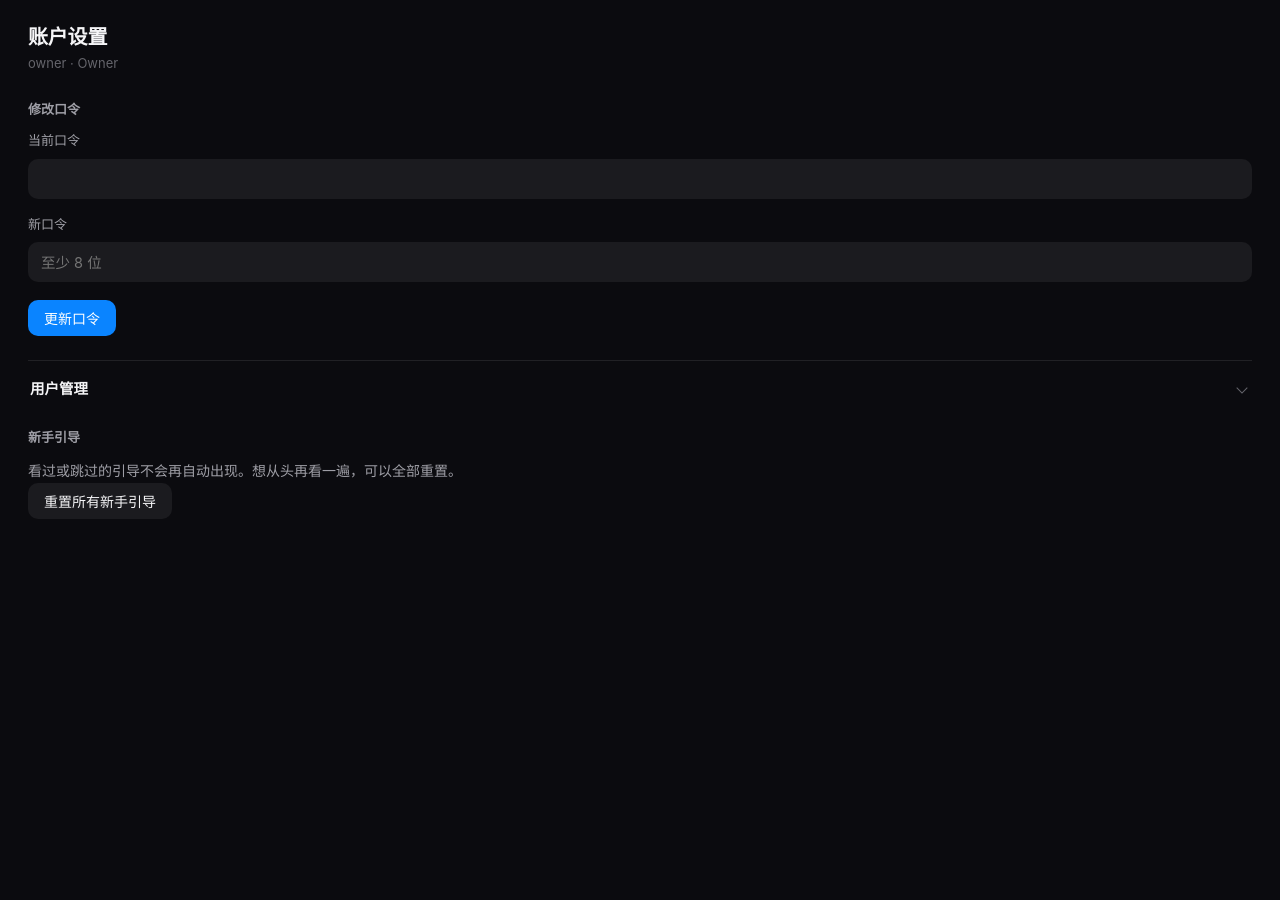
Test: 账户设置的反馈 › 重置他人口令成功给出反馈
Click the button "用户管理".
click(59, 388)  # box [28,360,1252,402]
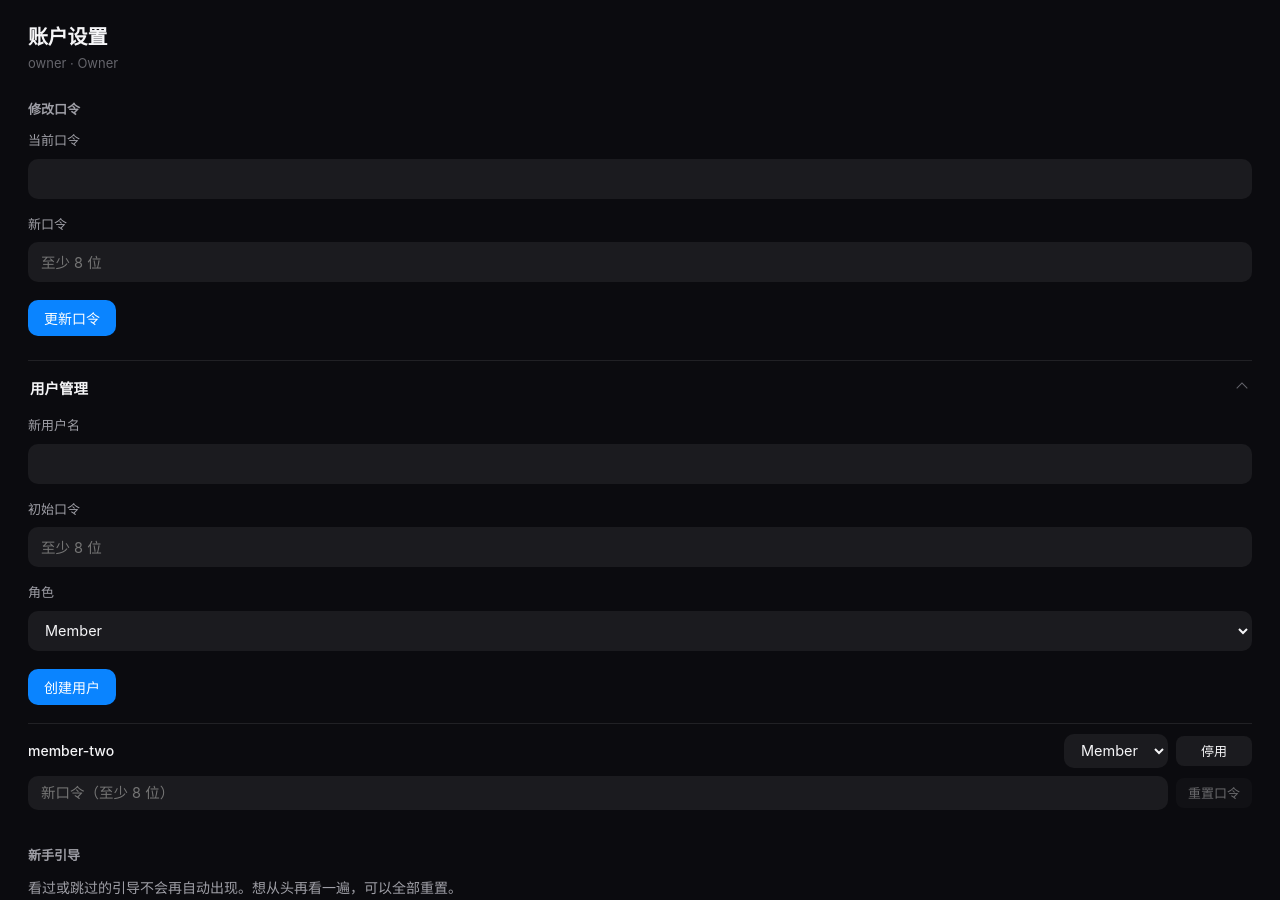
Type "brand-new-pass" into the password field named "重置 member-two 口令".
click(598, 792); type("brand-new-pass")  # box [28,776,1168,810]
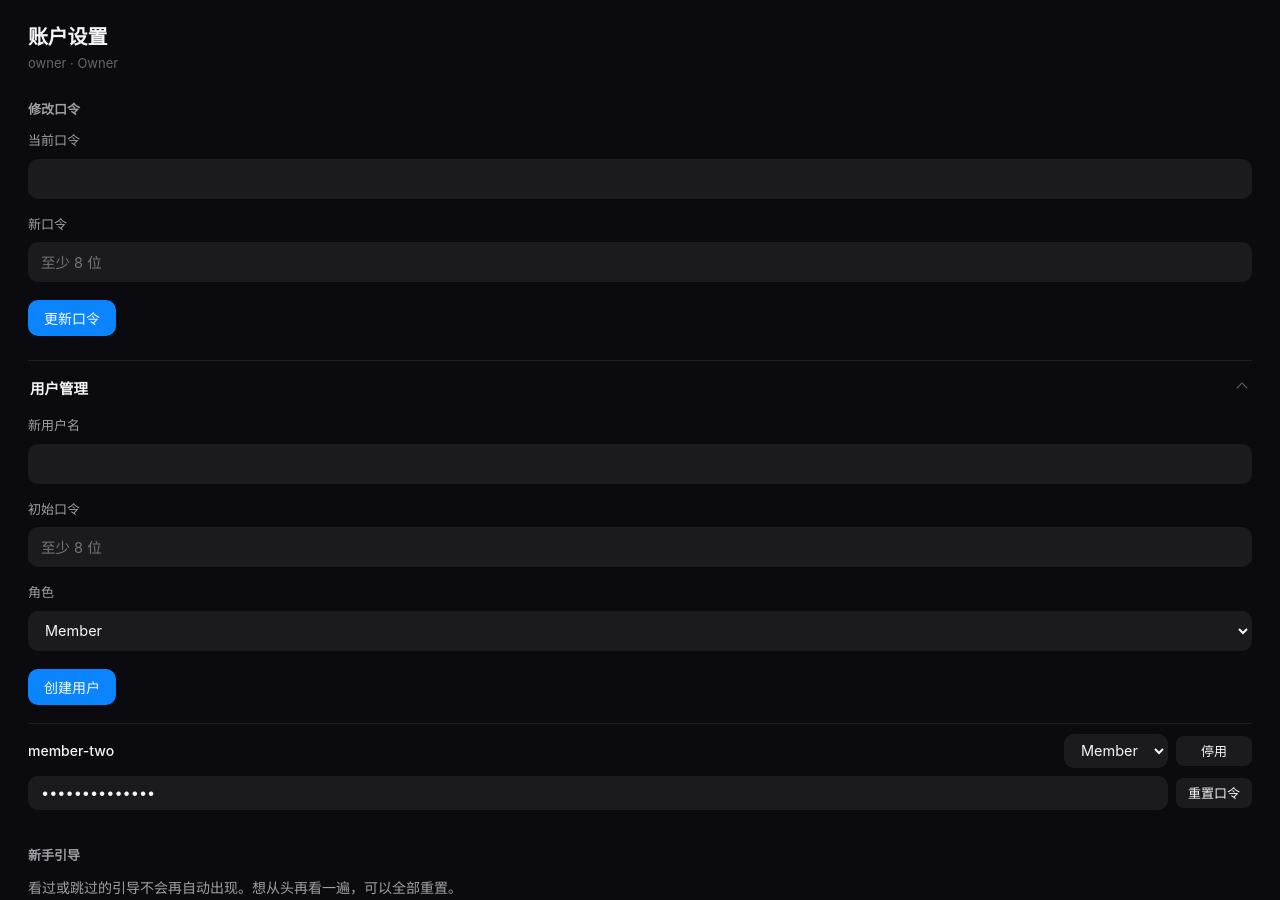
Click the button "重置口令".
click(1214, 792)  # box [1176,778,1252,808]
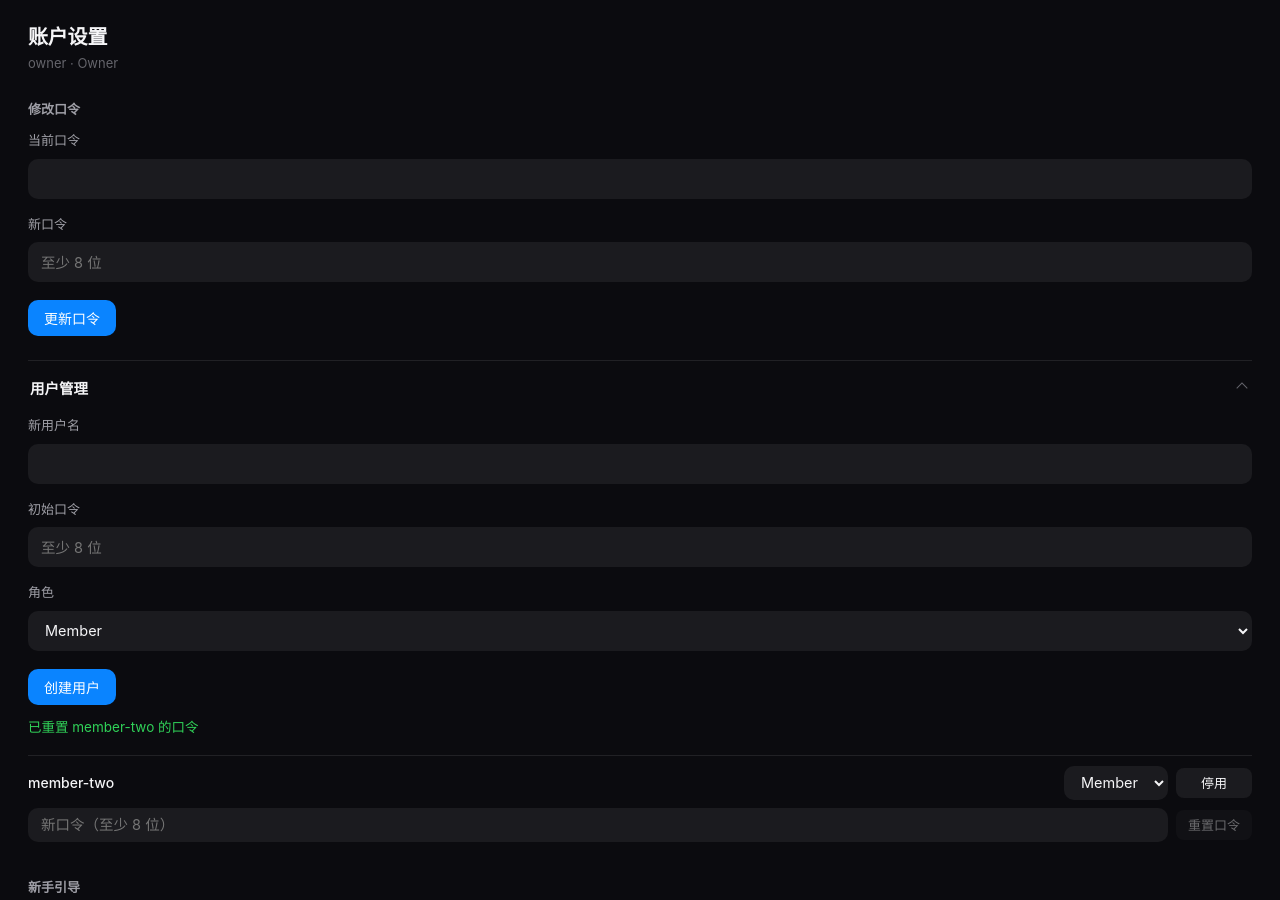
Check: the text "已重置 member-two 的口令" is shown, box [28,718,198,734]
